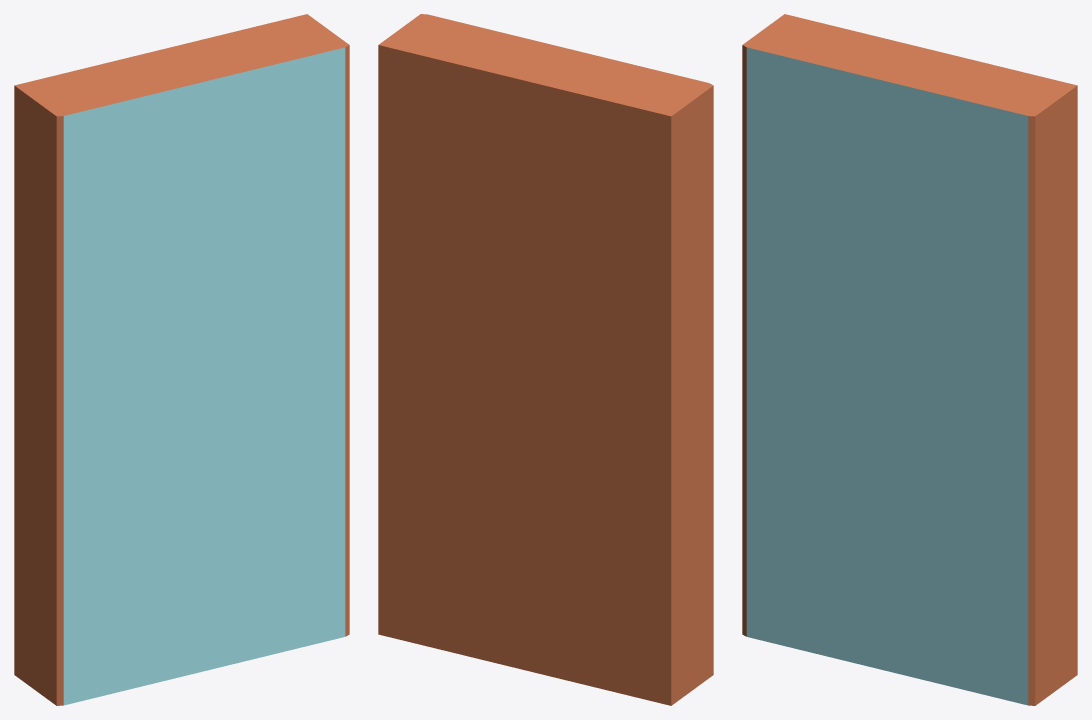
File: cliff_waterfall_rock_narrow.fbx
The picture shows the model from 3 angles, left to right: view 1: azimuth 30°, elevation 25°; view 2: azimuth 150°, elevation 25°; view 3: azimuth 330°, elevation 25°; orthographic projection.
Parts seen in each view (by area): view 1: cliff_waterfall_rock; view 2: cliff_waterfall_rock; view 3: cliff_waterfall_rock.
Part boxes in pixels (<box>): cliff_waterfall_rock: <box>14,14,349,705</box>; cliff_waterfall_rock: <box>378,14,713,705</box>; cliff_waterfall_rock: <box>742,14,1077,705</box>.
Size of the model in its own units: 5.2 by 10 by 1.34.
